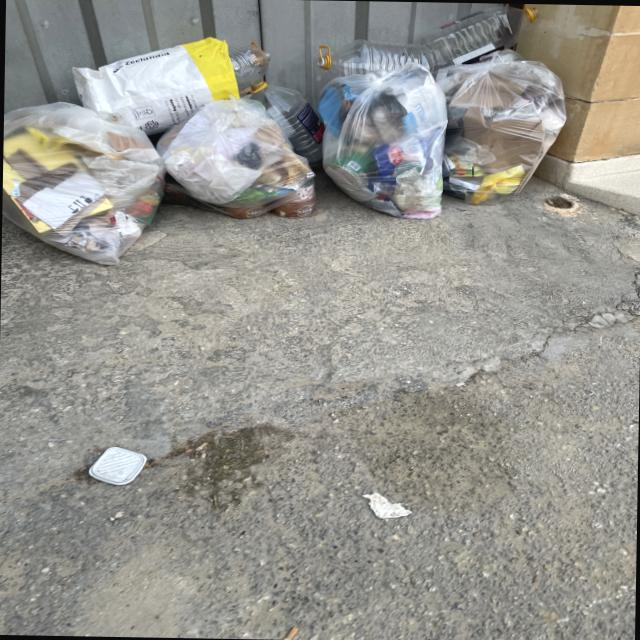grey_bag: (2, 104, 165, 268), (316, 72, 450, 218), (160, 100, 317, 220), (449, 58, 568, 210)
other_waste: (61, 33, 272, 125), (420, 1, 536, 61), (308, 38, 438, 74)
